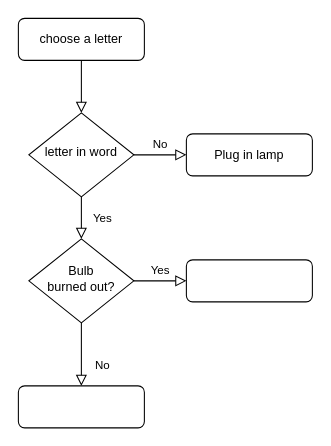
Image size: 331x446. Some labels were removed from this diagram. Each missing label, with the centre of its shape:
Repair Lamp: the point at 80,406
Replace Bulb: the point at 248,280
